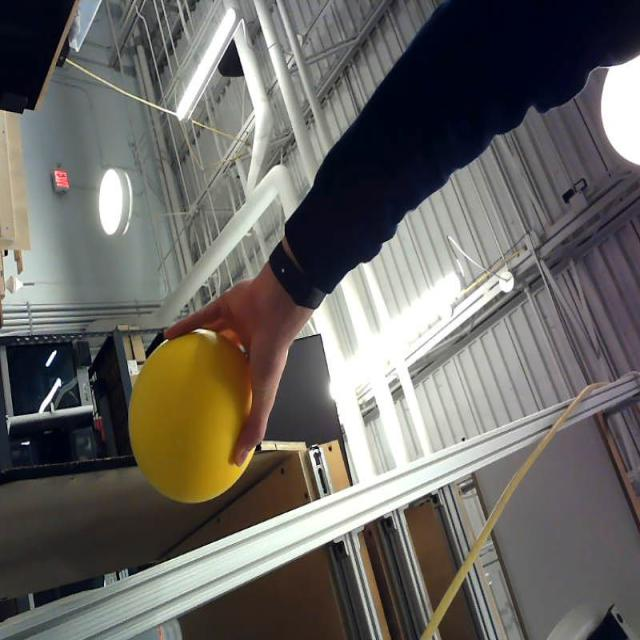Fuel: (128, 326, 260, 504)
